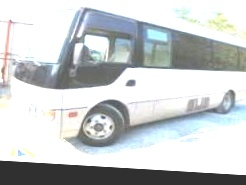bus: (6, 0, 246, 155)
